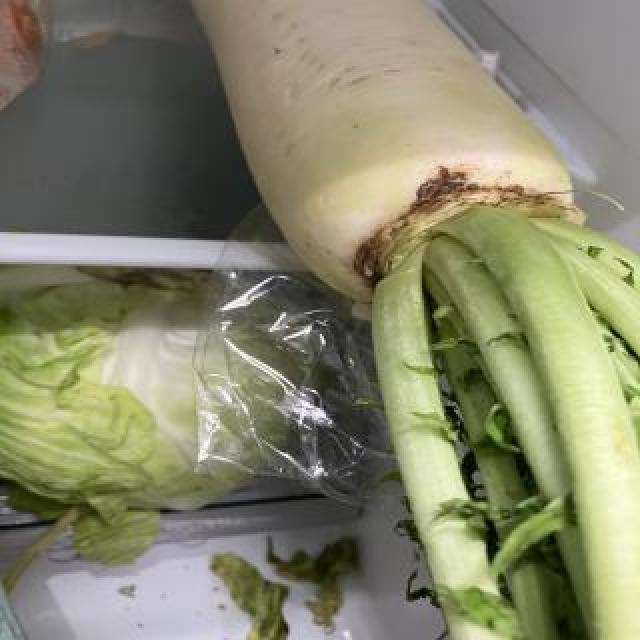Wet: (0, 262, 322, 521)
